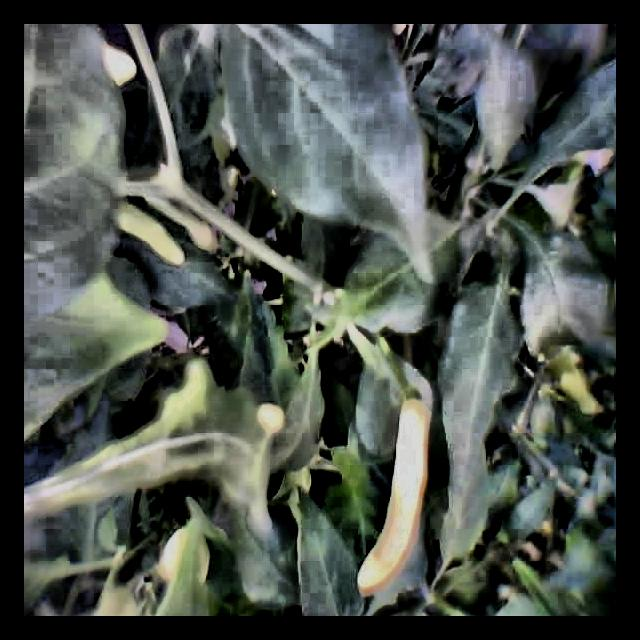Cabai: (355, 406, 438, 590)
